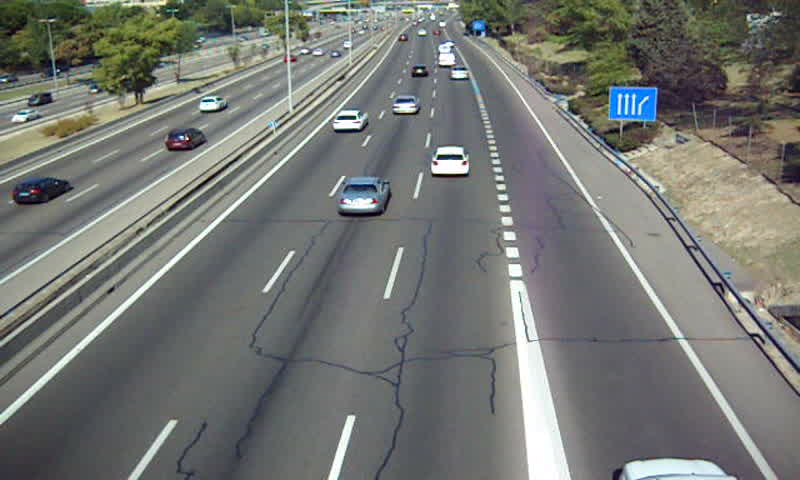car: (337, 178, 390, 216), (430, 146, 471, 178), (332, 109, 368, 133), (393, 94, 421, 116), (450, 66, 470, 81), (408, 65, 428, 79)
van: (437, 53, 457, 67)
